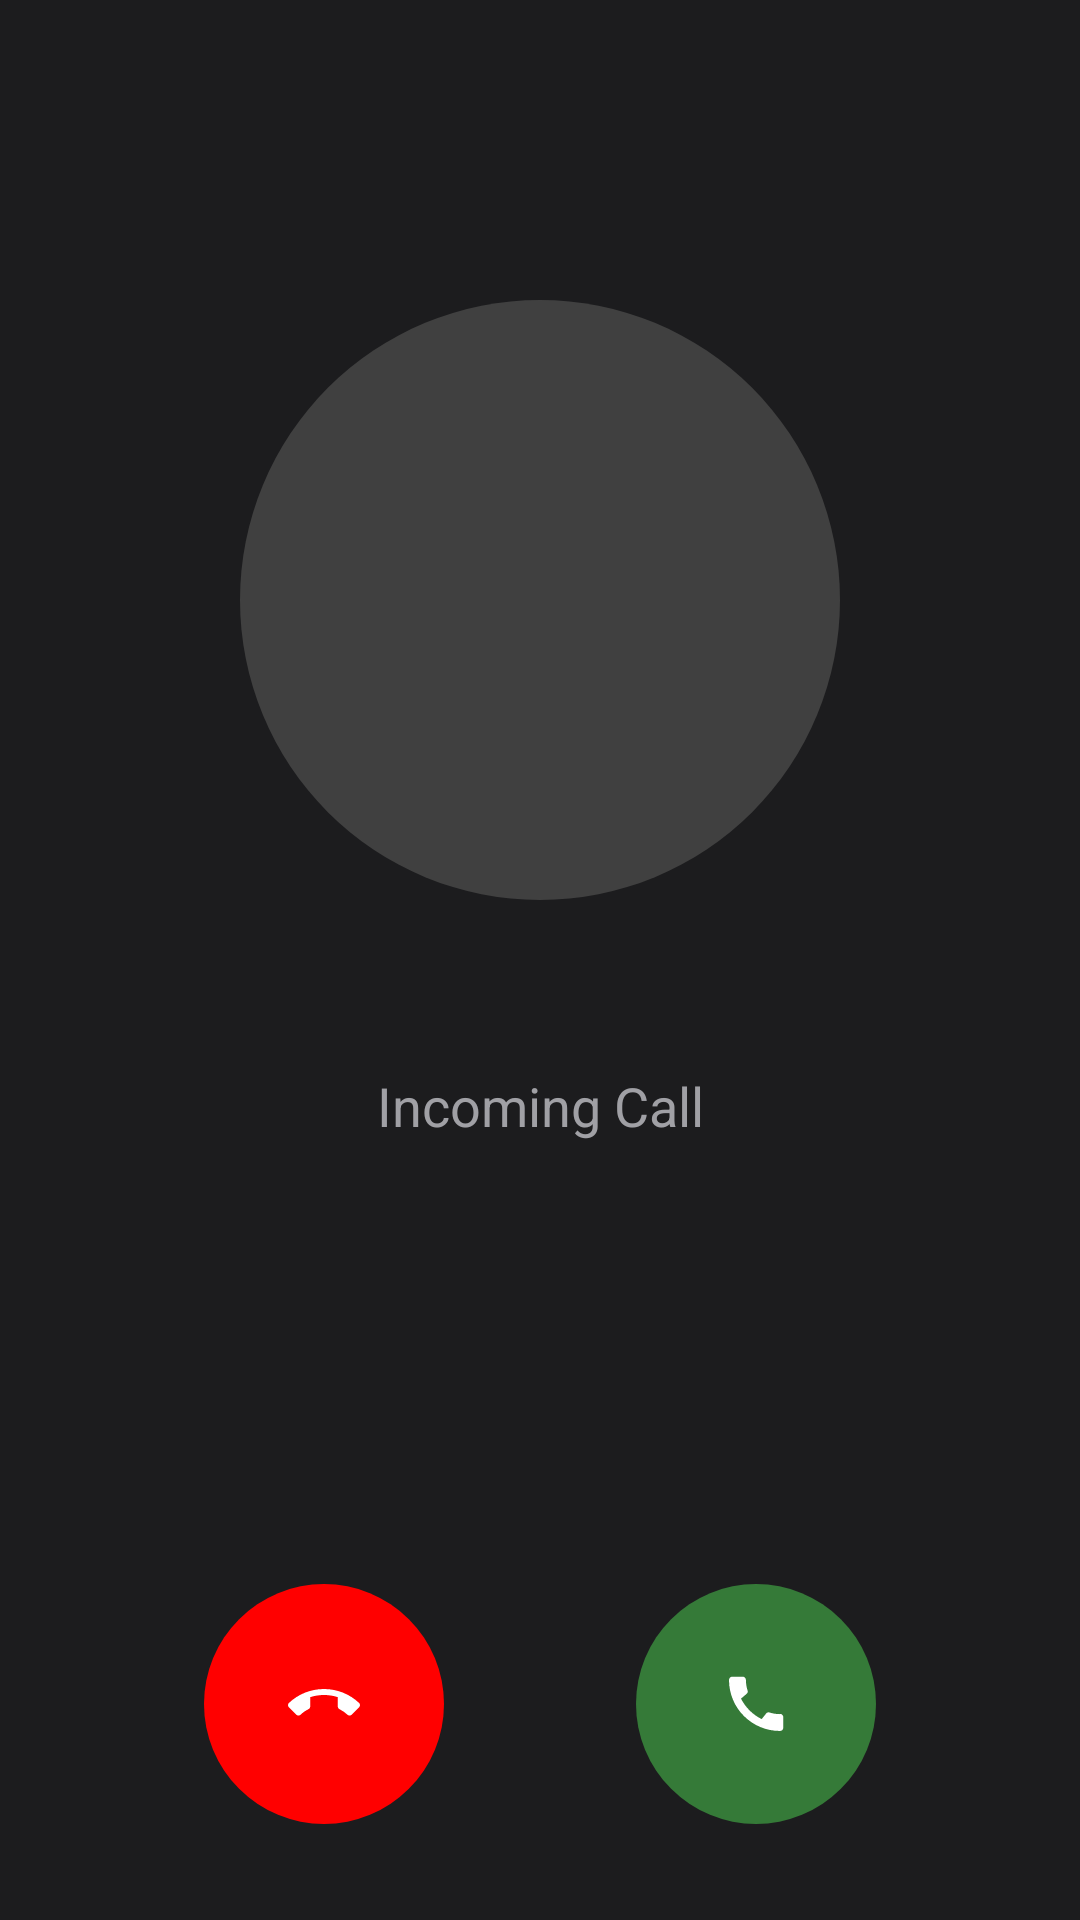

Named icons in this screenshot (1080 x 1920) and their bounding boxes, [x1=x1, y1=y1, x2=x2, y2=y2]:
Answer Call: [x1=636, y1=1584, x2=876, y2=1824]
Reject Call: [x1=204, y1=1584, x2=444, y2=1824]
